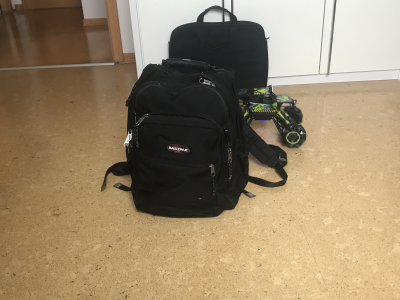remote control car: (233, 82, 308, 150)
